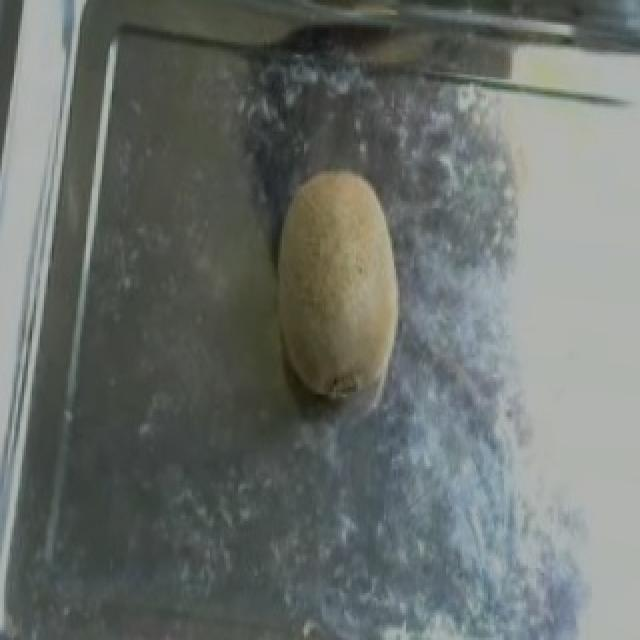Fruit: (244, 146, 424, 420)
